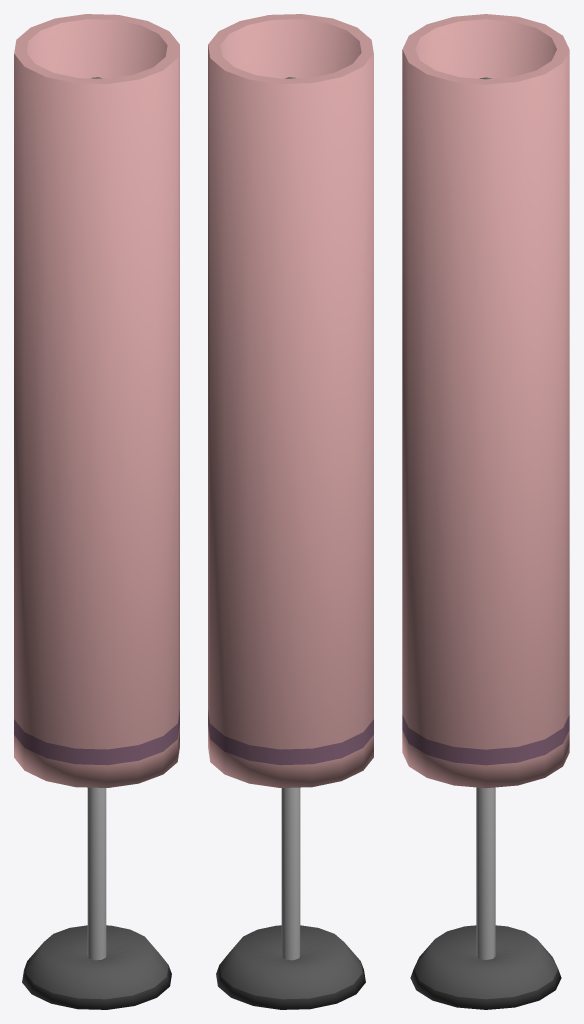
The model's file is lamp_11.glb.
3 renders of one model, left to right at view 1: azimuth 30°, elevation 25°; view 2: azimuth 150°, elevation 25°; view 3: azimuth 270°, elevation 25°, orthographic.
Parts seen in each view (by area): view 1: Lamp 3; view 2: Lamp 3; view 3: Lamp 3.
Boxes of the visible parts, left/top/right/bottom form: Lamp 3: left=14, top=14, right=179, bottom=1009; Lamp 3: left=208, top=14, right=373, bottom=1009; Lamp 3: left=402, top=14, right=569, bottom=1009.
Size of the model in its own units: 0.1538 by 0.9432 by 0.1538.
Materials: 1 (1 with a texture image).
